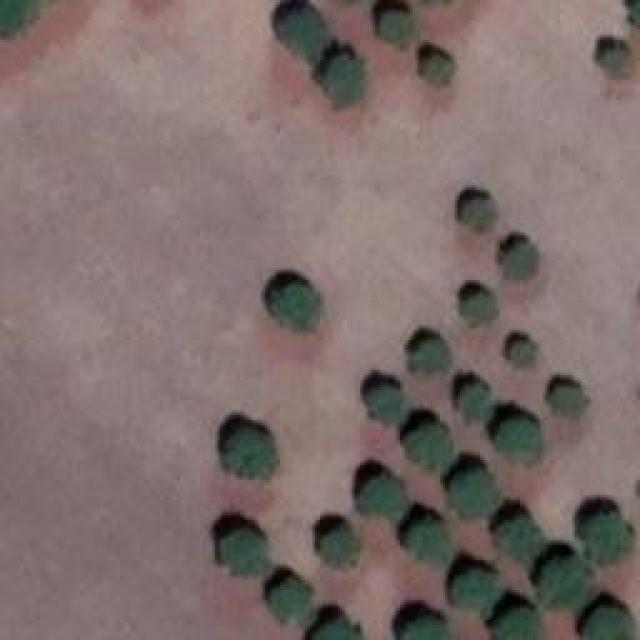Tree: (270, 0, 325, 60), (318, 53, 371, 106), (228, 428, 281, 478), (585, 513, 635, 566), (403, 425, 456, 473), (542, 558, 590, 608), (272, 280, 320, 330), (450, 472, 498, 520), (452, 568, 500, 611), (370, 8, 413, 53), (490, 607, 545, 640), (583, 605, 633, 640), (363, 478, 406, 518), (498, 518, 541, 558), (228, 527, 263, 575), (407, 518, 445, 561), (270, 580, 308, 623), (498, 420, 538, 460), (367, 383, 405, 423), (500, 242, 540, 280), (590, 40, 633, 75), (413, 337, 448, 375), (458, 385, 493, 423), (323, 528, 356, 568), (423, 47, 456, 85), (460, 193, 493, 228), (400, 617, 450, 640), (465, 293, 498, 326), (553, 385, 583, 420), (0, 0, 32, 32), (310, 620, 360, 640), (510, 343, 540, 368)
